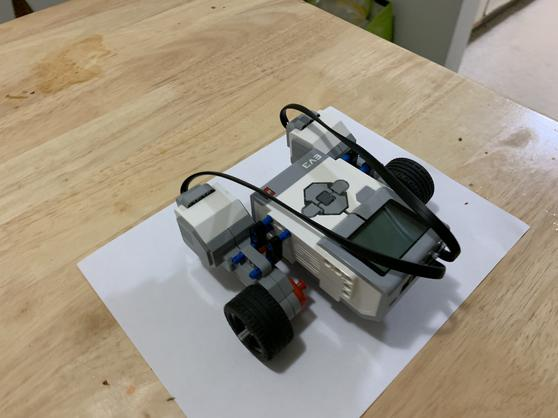robot: (166, 108, 461, 364)
